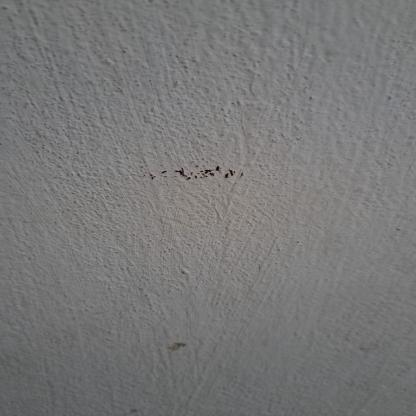spot: (108, 143, 284, 192), (164, 332, 215, 362)
